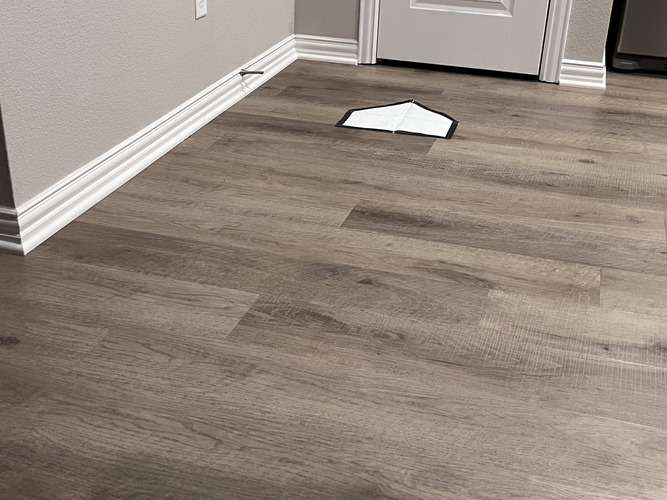homeplate: (332, 100, 458, 140)
